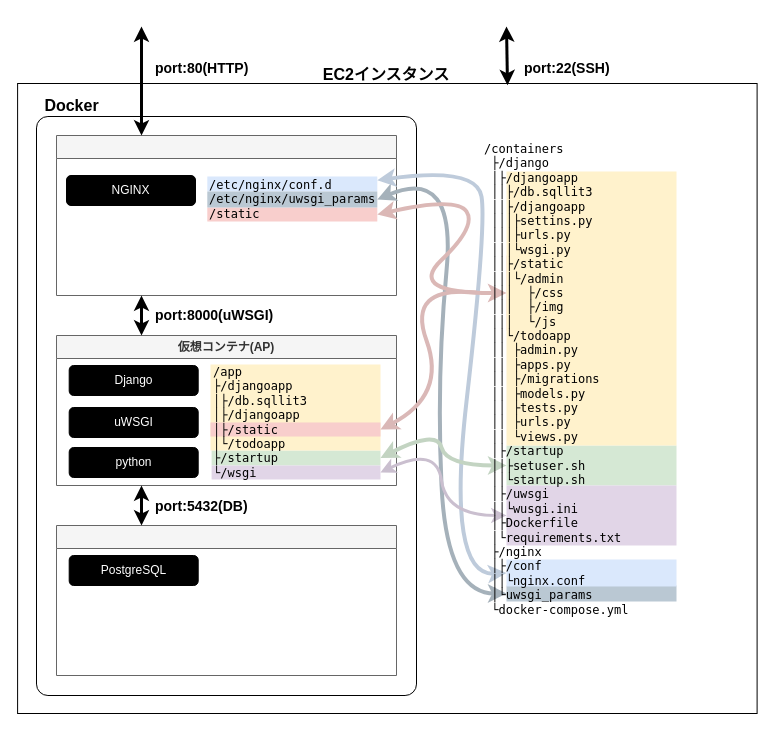
Image size: 775x731. Some labels were removed from this diagram. The shapes that lost their labels are listed below. From the top down, each one's box as (x1, y1, x2, y2) in pixels, then its label:
(56, 134, 396, 296): 仮想コンテナ(WEB)
(56, 524, 396, 676): 仮想コンテナ(DB)
